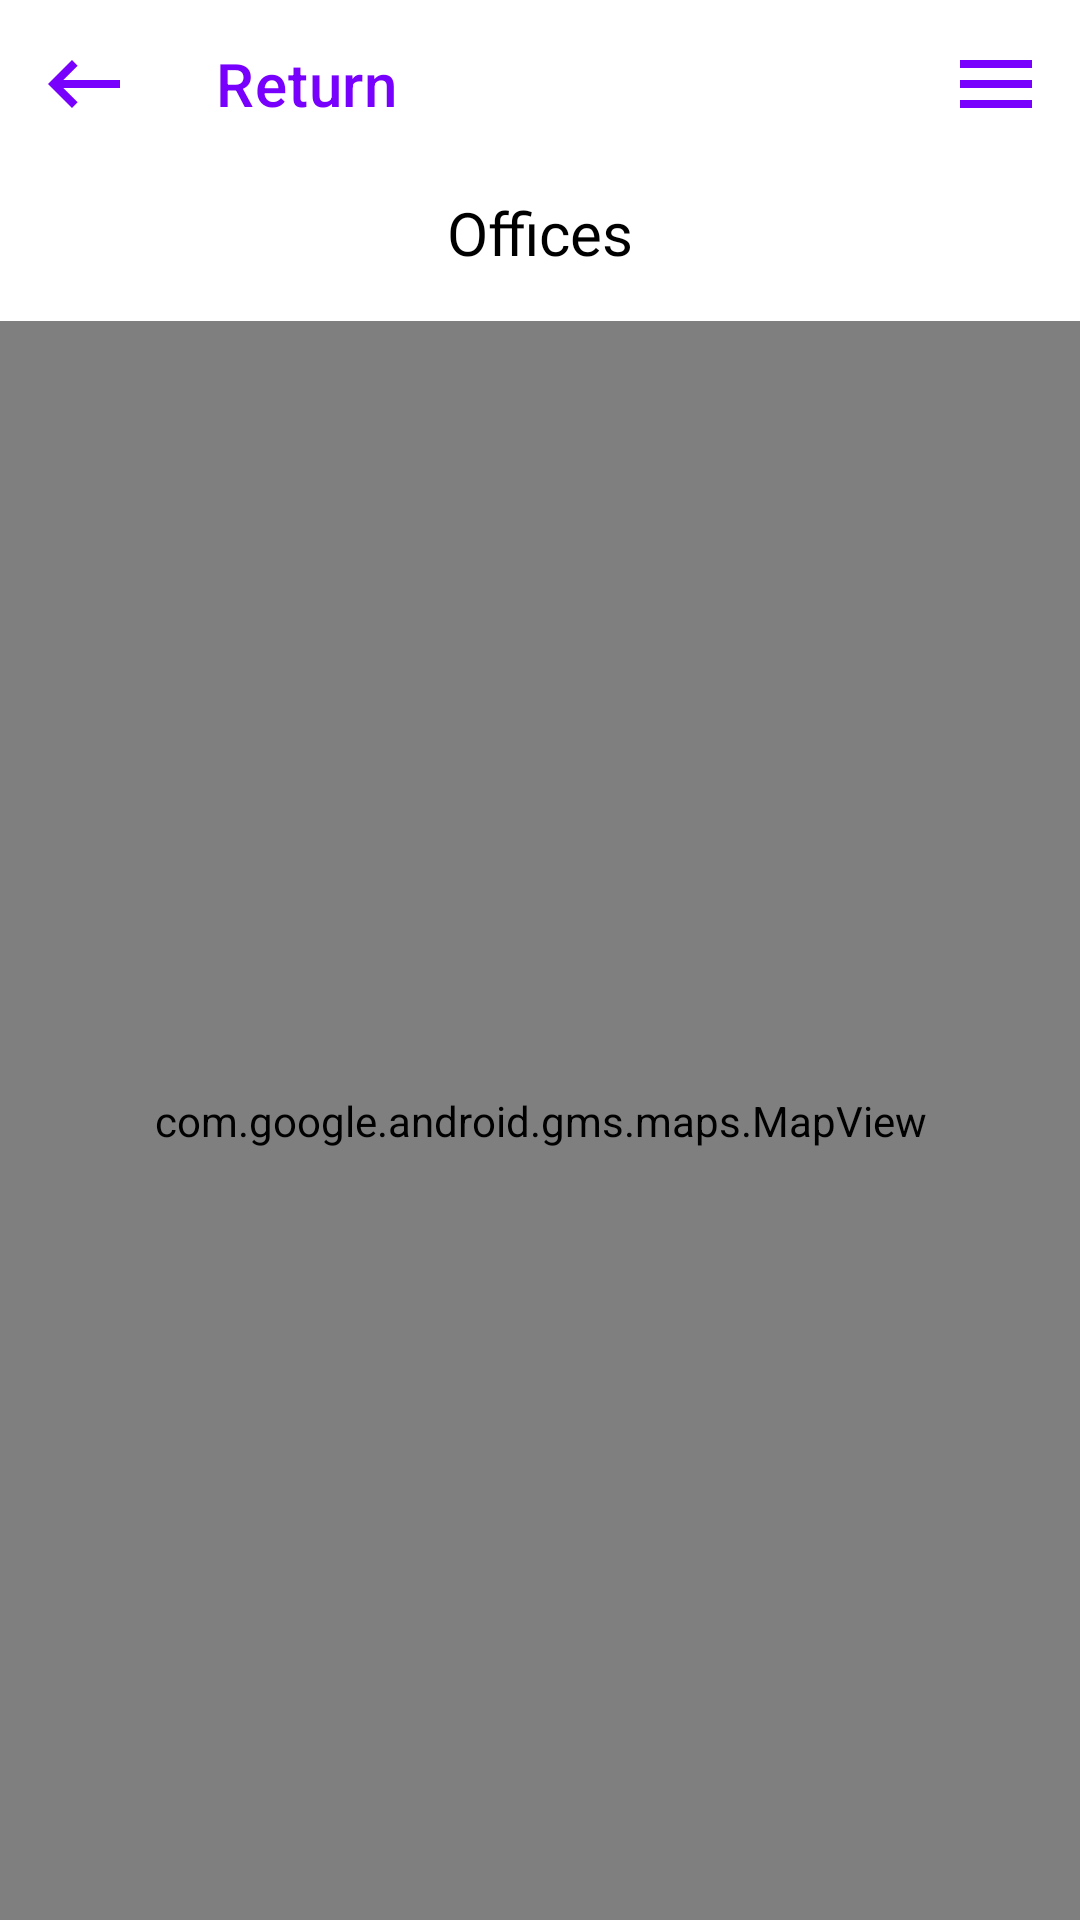

Point at icon controls on the screen. Image size 1080×1920, points as point (x, y).
menu: point (996, 84)
